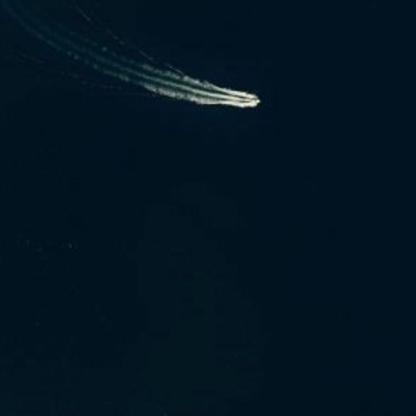ship: (246, 76, 261, 92)
